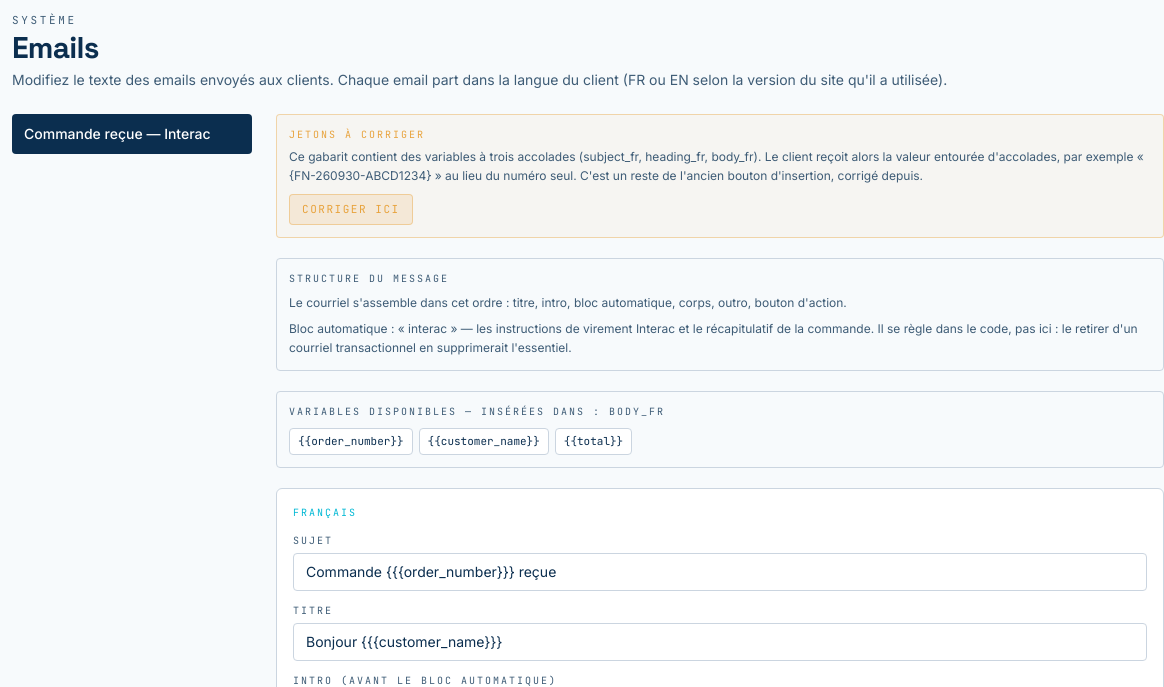
l'avis disparait une fois la correction faite
Click the button with test id "email-reparer-jetons": (351, 209) left=289, top=194, right=413, bottom=225
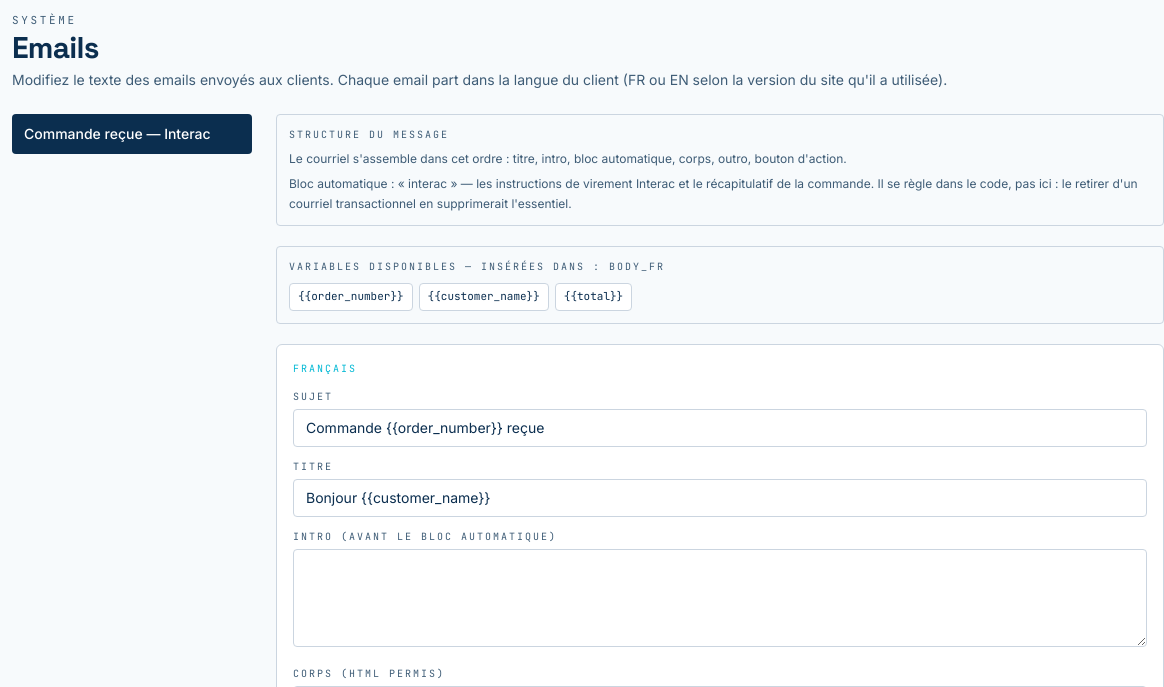
Check: the element with test id "email-jetons-abimes" is gone
